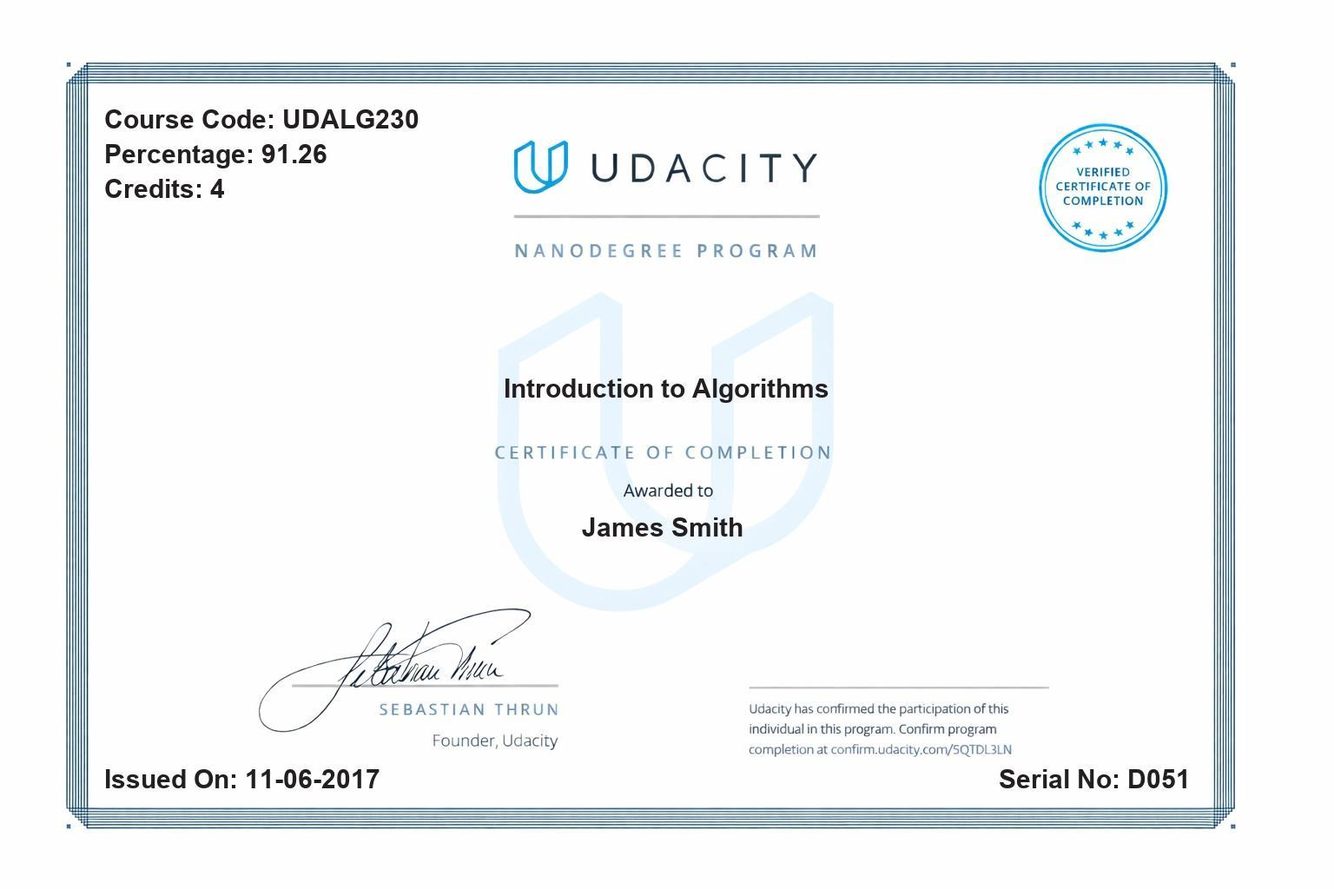Course Code: (278, 100, 424, 135)
Course Name: (492, 369, 847, 408)
Credits: (206, 173, 235, 205)
Issued On: (242, 757, 387, 797)
Percentage: (257, 138, 342, 175)
Serial No: (1125, 760, 1191, 797)
Student Name: (576, 508, 755, 548)
